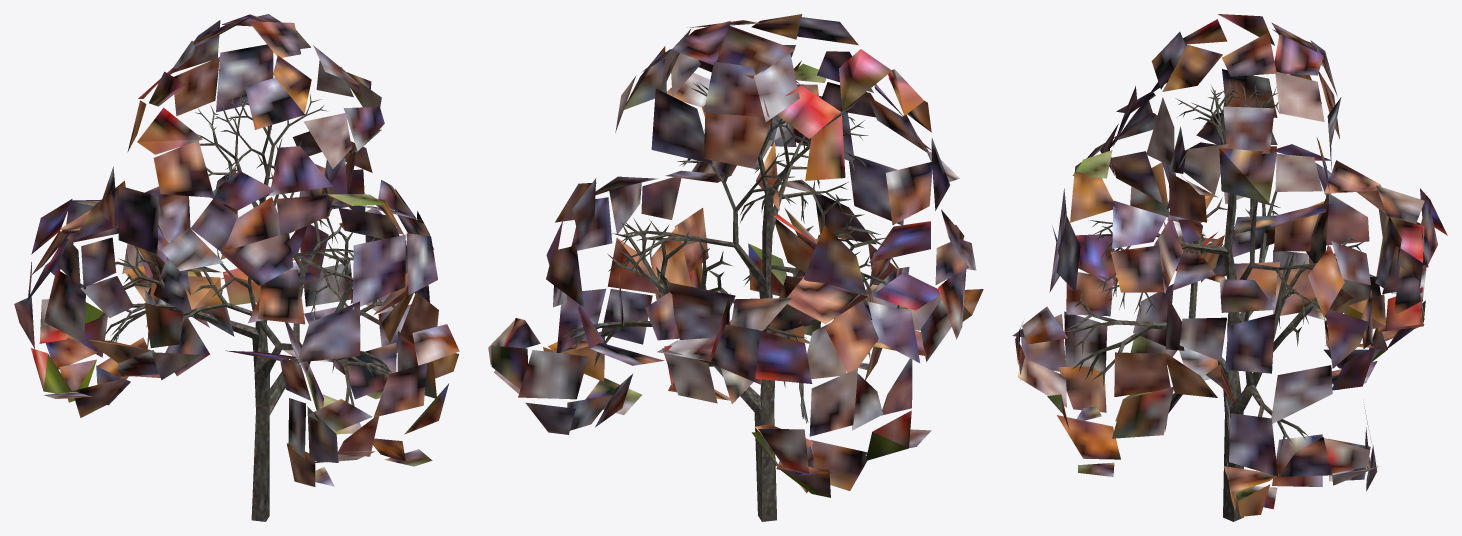
File: Tree14.fbx
3 renders of one model, left to right at view 1: azimuth 30°, elevation 25°; view 2: azimuth 150°, elevation 25°; view 3: azimuth 270°, elevation 25°, orthographic. The views are drawn at different scales.
Visible parts, largest first — view 1: Tree14; view 2: Tree14; view 3: Tree14.
Boxes of the visible parts, left/top/right/bottom form: Tree14: left=14, top=14, right=459, bottom=521; Tree14: left=488, top=14, right=983, bottom=521; Tree14: left=1012, top=14, right=1447, bottom=521.
Bounding box in the file's own units: 1650 × 1907 × 1539.
